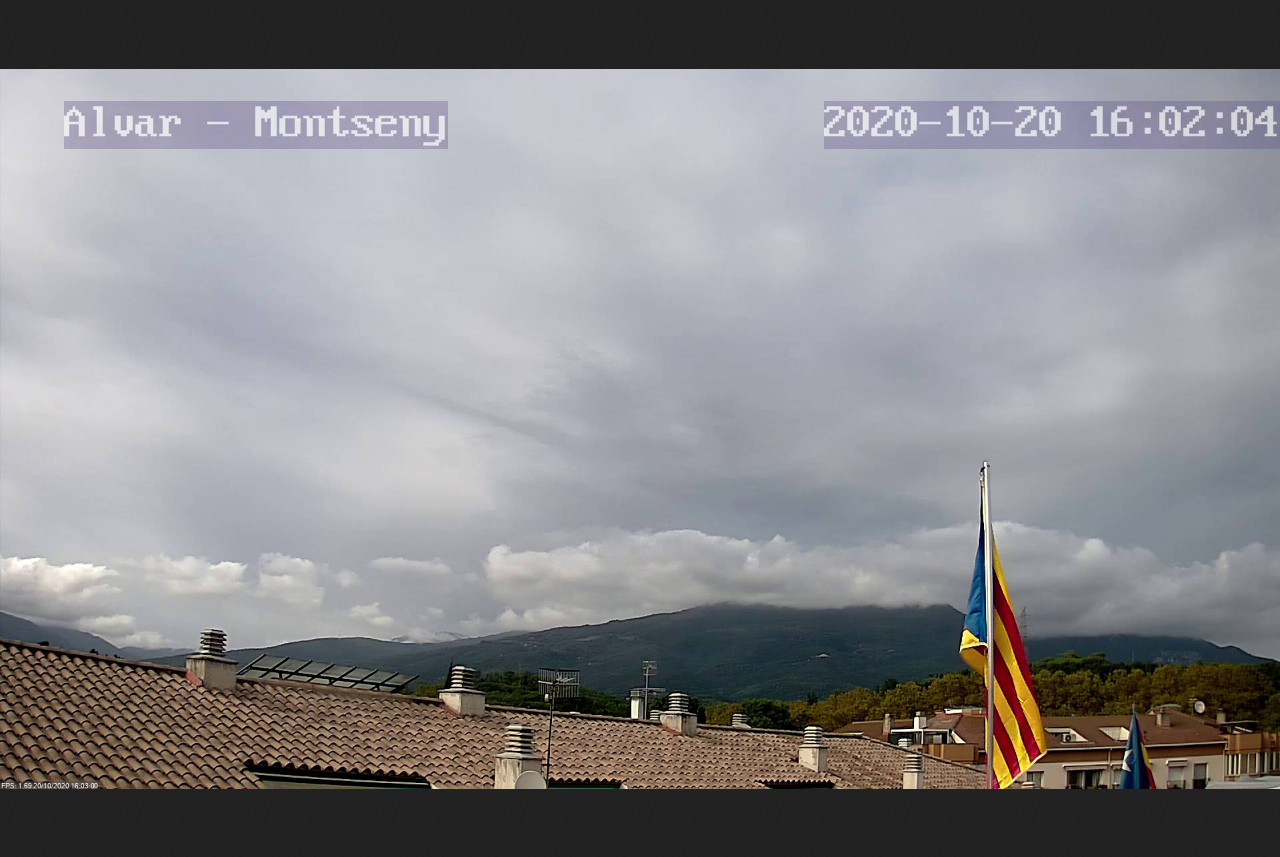no: (960, 507, 1049, 783)
